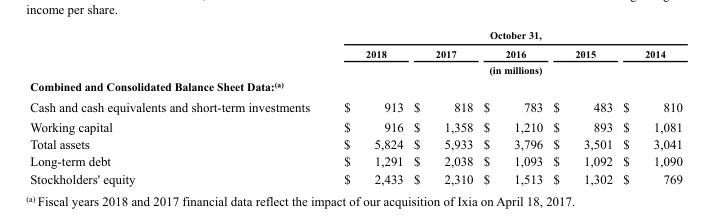table: (29, 29, 681, 186)
table column: (29, 29, 326, 186), (326, 29, 407, 186), (407, 29, 477, 186), (477, 29, 547, 186), (547, 29, 617, 186), (617, 29, 681, 186)
table column header: (29, 29, 681, 77)
table projected row header: (29, 77, 681, 96)
table row: (29, 96, 681, 116), (29, 77, 681, 96), (29, 116, 681, 135), (29, 43, 681, 61), (29, 135, 681, 152), (29, 152, 681, 169), (29, 169, 681, 186), (29, 61, 681, 77), (29, 29, 681, 43)
table spanning cell: (326, 61, 681, 77), (326, 29, 681, 43)
